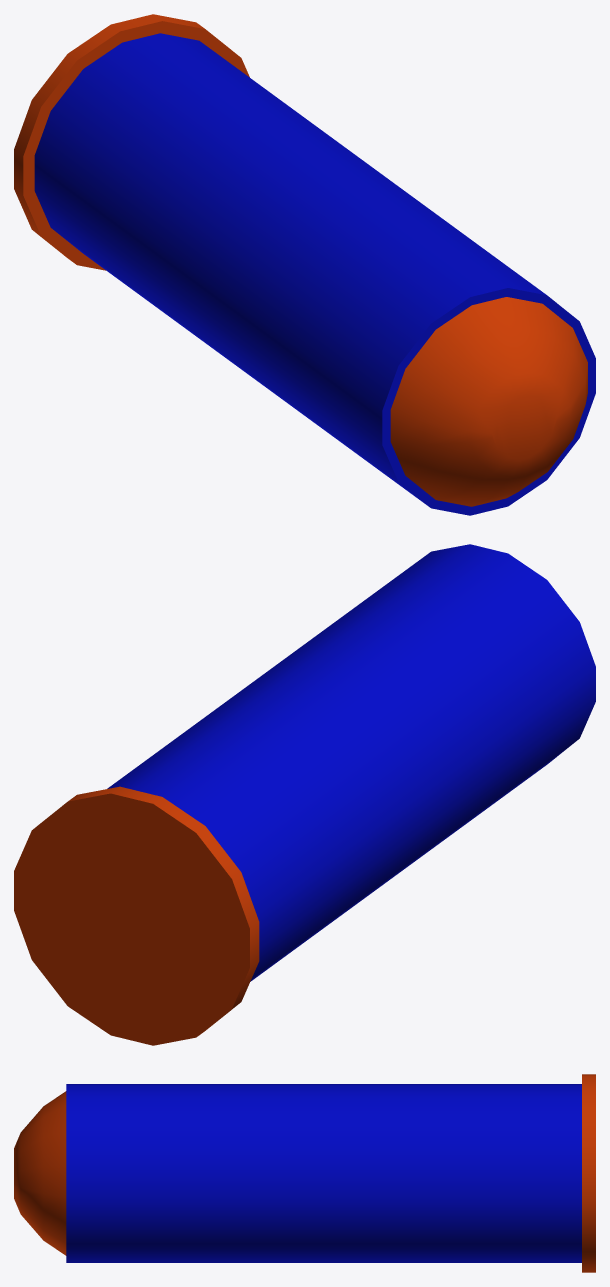
The model's file is basic_bullet.FBX.
3 views of the same model, one above another, from view 1: azimuth 30°, elevation 25°; view 2: azimuth 150°, elevation 25°; view 3: azimuth 270°, elevation 25° (orthographic). The views are drawn at different scales.
Parts seen in each view (by area): view 1: bullet_basic; view 2: bullet_basic; view 3: bullet_basic.
Boxes of the visible parts, <box> form: bullet_basic: <box>14,14,595,515</box>; bullet_basic: <box>14,544,595,1045</box>; bullet_basic: <box>14,1074,595,1272</box>.
Size of the model in its own units: 18.94 by 18.57 by 54.59.
